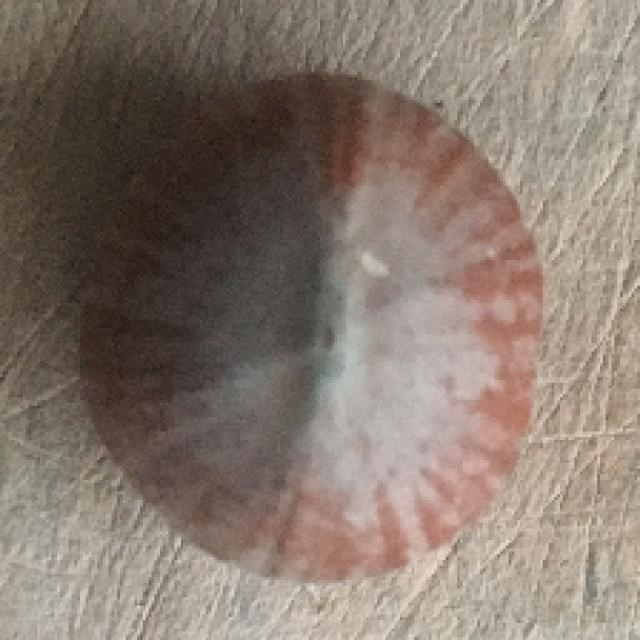qualityHazelnut: (80, 68, 548, 582)
